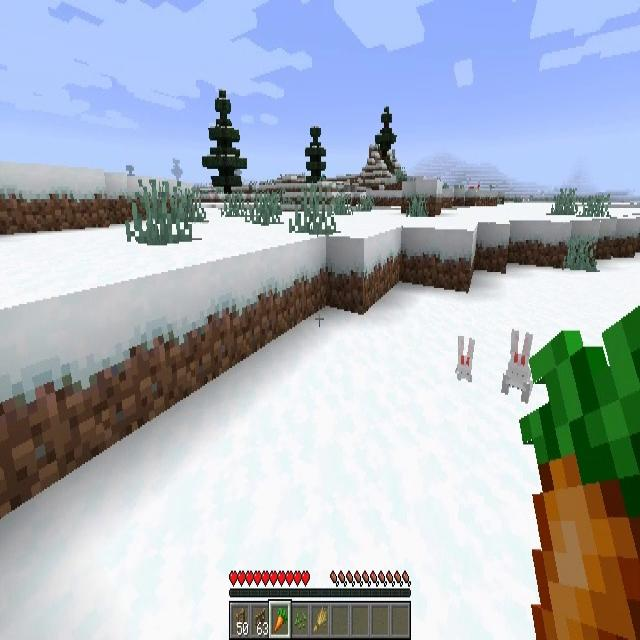rabbit: (504, 329, 534, 401), (456, 335, 472, 381)
